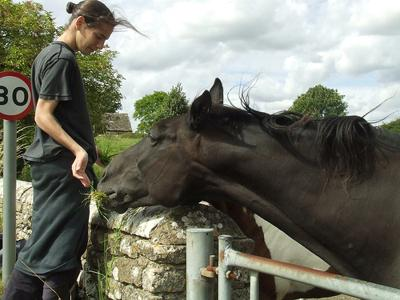person: (2, 2, 117, 300)
